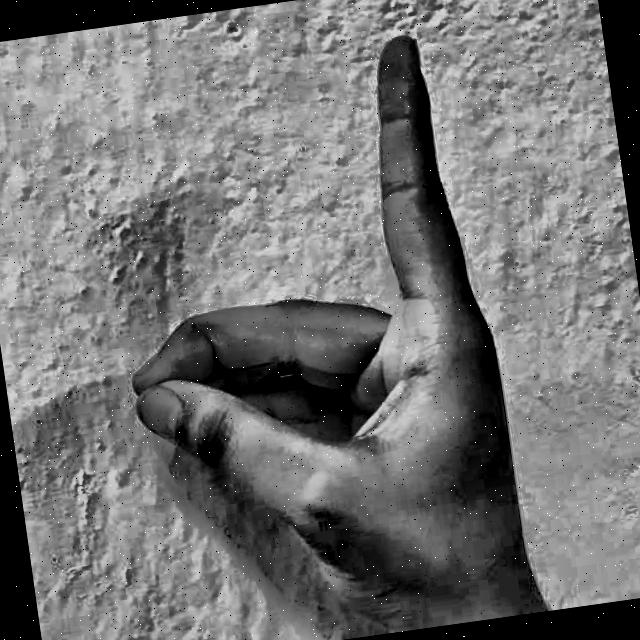Dha: (58, 5, 578, 640)
